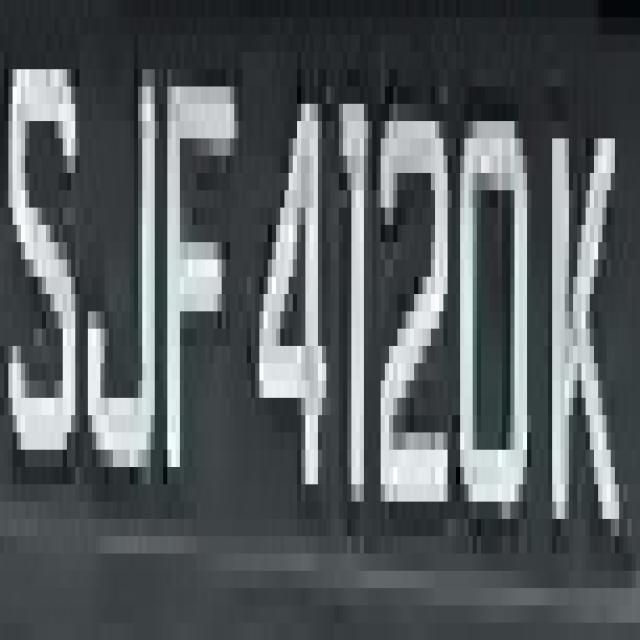0: (456, 104, 535, 536)
1: (335, 35, 364, 588)
2: (372, 69, 456, 536)
4: (246, 35, 334, 536)
F: (158, 0, 234, 484)
J: (84, 17, 163, 467)
K: (540, 69, 619, 571)
S: (0, 18, 84, 484)
